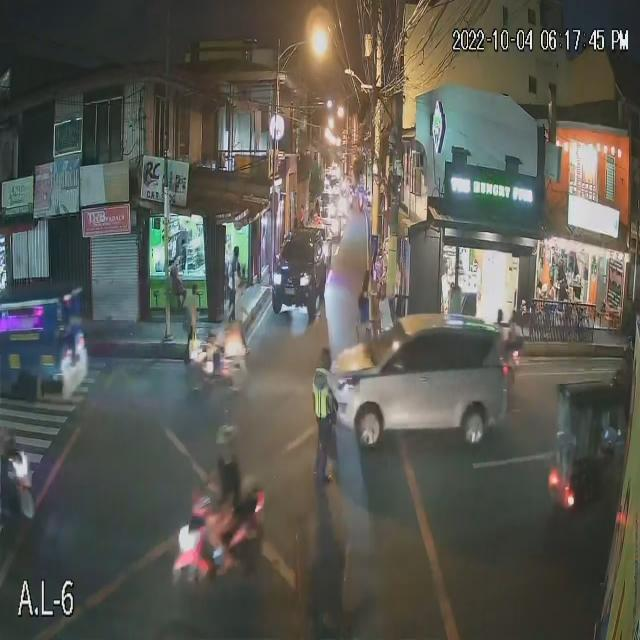motorcycle: (175, 501, 270, 585), (0, 446, 43, 514)
